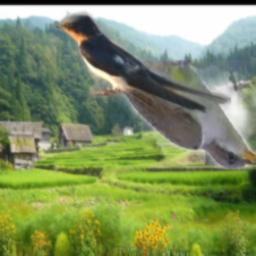Cuckoo: (97, 61, 256, 170)
Swallow: (50, 9, 232, 113)
